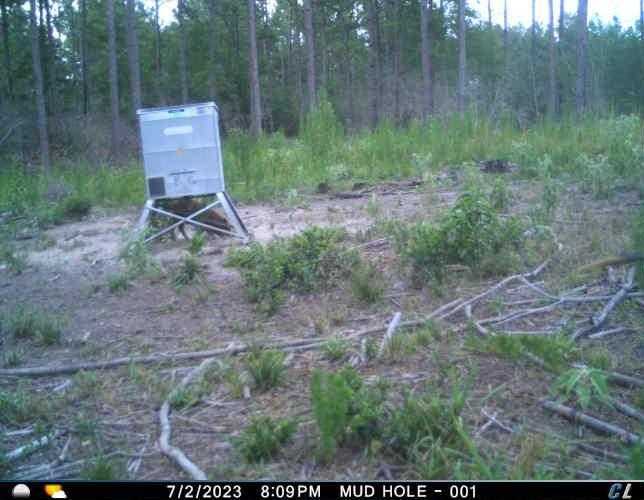Hog: (167, 196, 232, 241)
